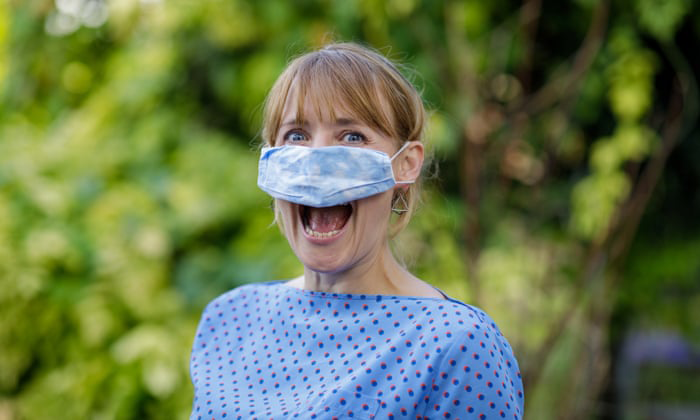mask_weared_incorrect: (256, 117, 394, 274)
